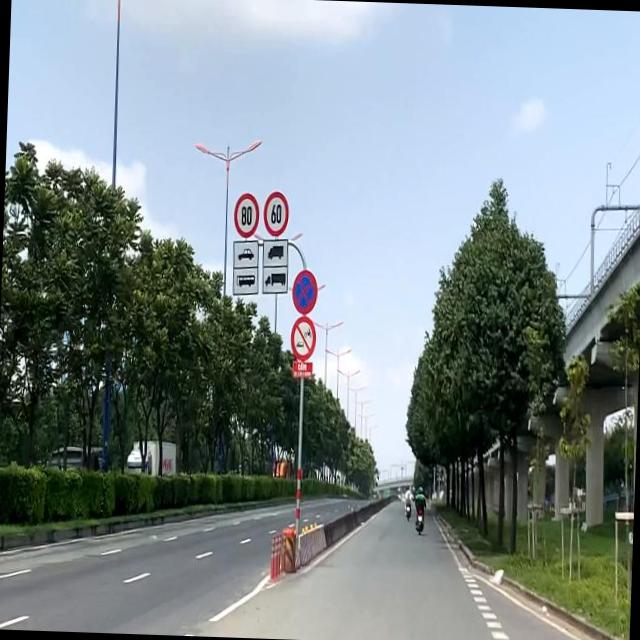P-104: (290, 316, 318, 358)
P-127: (233, 191, 260, 239), (263, 189, 289, 236)
P-130: (290, 266, 318, 314)
